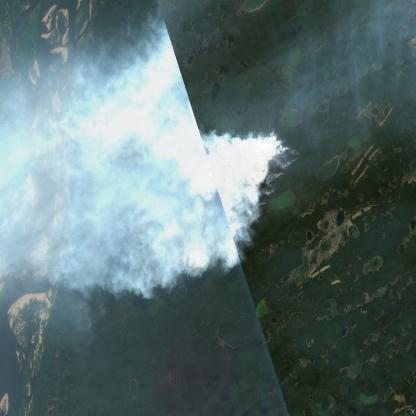fire: (148, 130, 301, 275)
